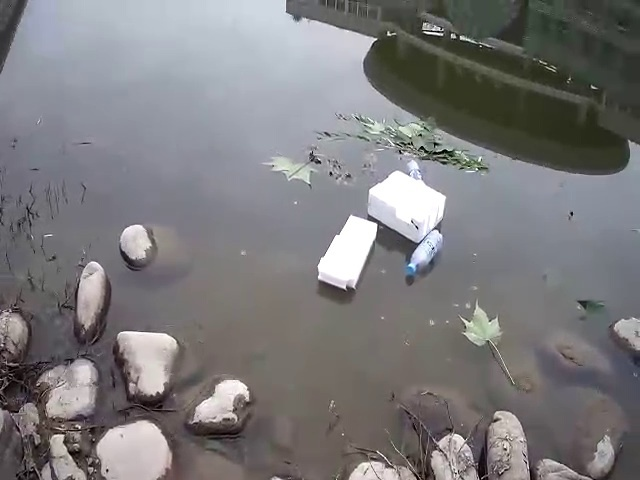bottle: (408, 229, 445, 280), (399, 152, 428, 183)
leaf: (328, 102, 485, 171), (264, 149, 316, 190), (456, 305, 507, 345), (573, 295, 609, 324)
paomo: (362, 170, 447, 238), (317, 208, 377, 299)
